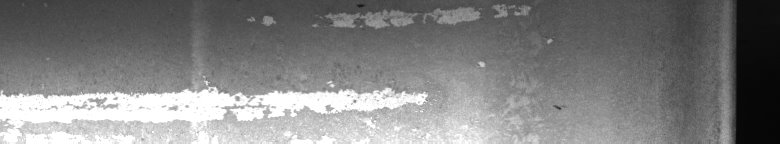kb: (4, 4, 565, 120)
